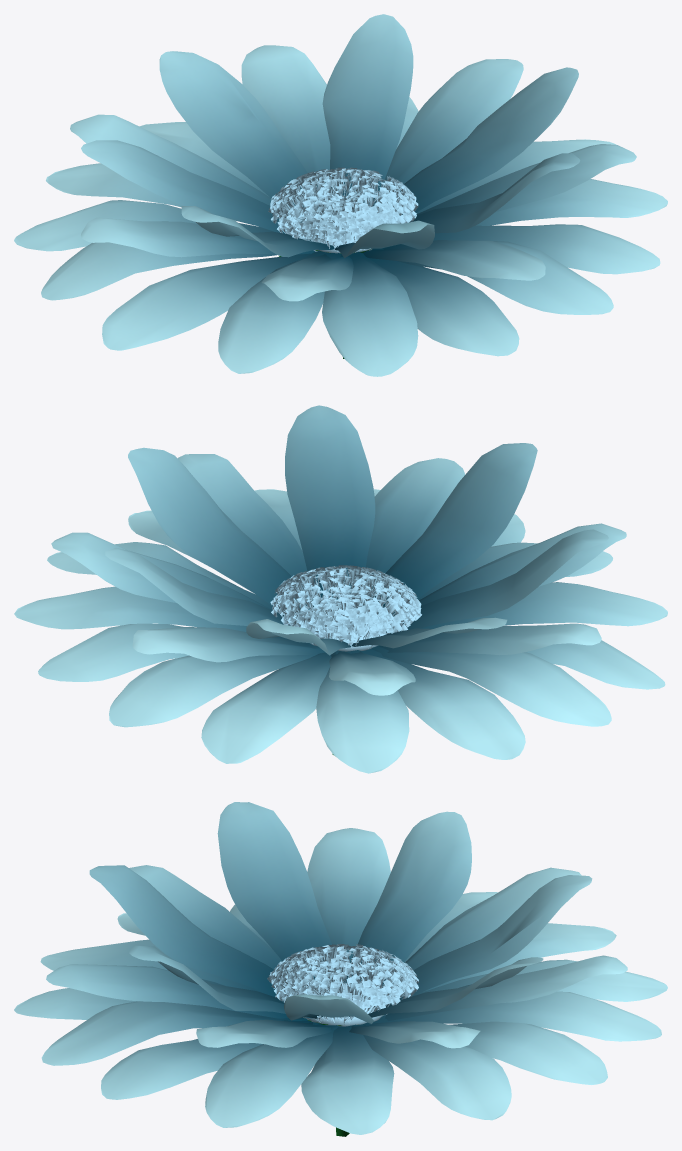
3 views of the same model, one above another, from view 1: azimuth 30°, elevation 25°; view 2: azimuth 150°, elevation 25°; view 3: azimuth 270°, elevation 25° (orthographic).
Visible parts, largest first — view 1: flover.001; view 2: flover.001; view 3: flover.001.
Part boxes in pixels (bbox=[...]): flover.001: bbox=[14, 14, 667, 376]; flover.001: bbox=[14, 405, 667, 773]; flover.001: bbox=[14, 802, 667, 1136].
Bounding box in the file's own units: 0.5 × 0.2036 × 0.4998.
Materials: 3 (1 with a texture image).
